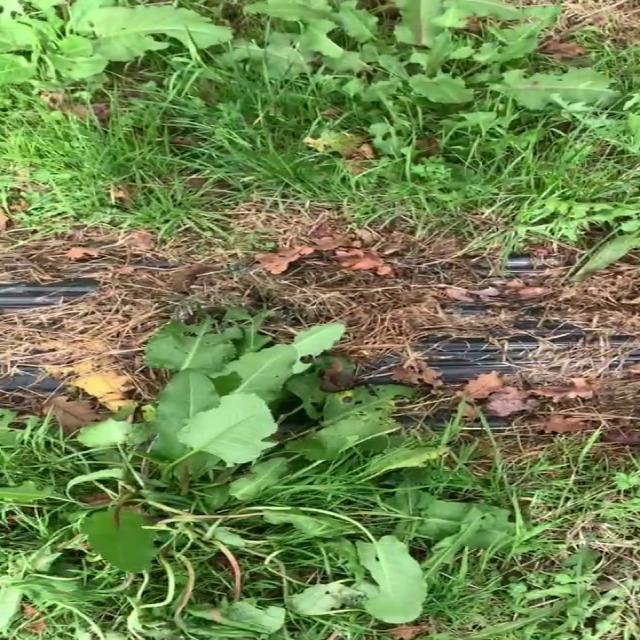organic waste: (0, 297, 539, 640), (225, 0, 620, 154), (0, 0, 262, 104)
